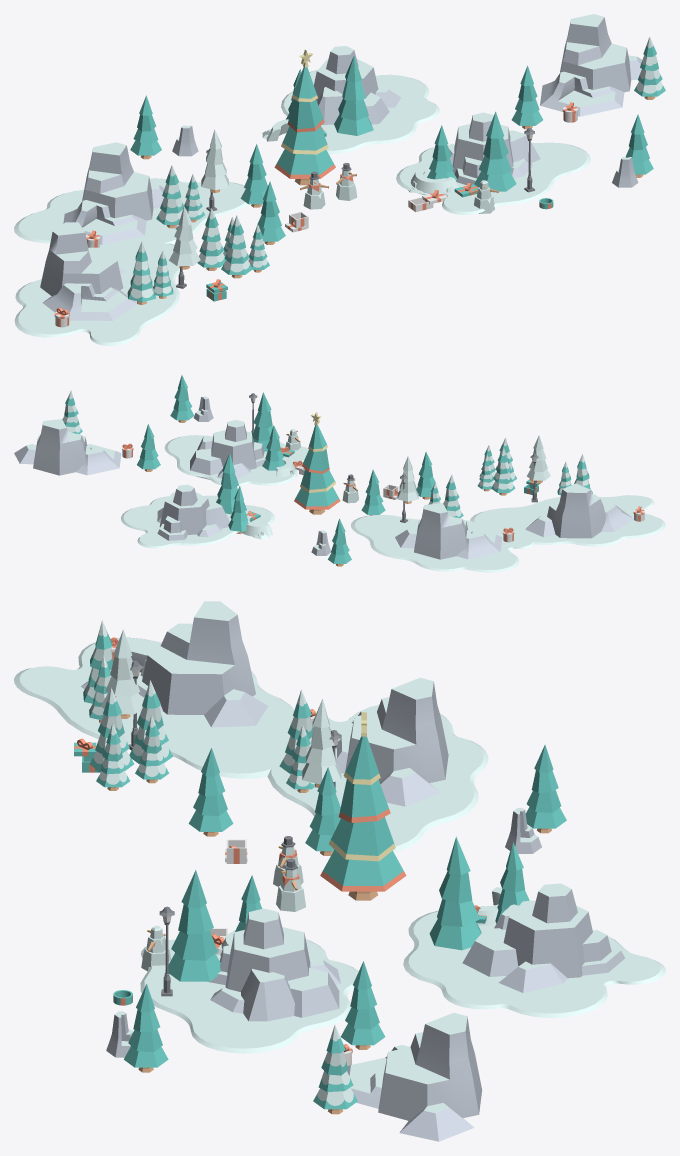
Rendered from xmas.glb.
The picture shows the model from 3 angles, top to bottom: view 1: azimuth 30°, elevation 25°; view 2: azimuth 150°, elevation 25°; view 3: azimuth 270°, elevation 25°; orthographic projection. The views are drawn at different scales.
Visible parts, largest first — view 1: rockFormationLarge.002, rockFormationLarge.001, rockFormationLarge, snowPatch.003, snowPatch.001, snowPatch, snowPatch.002, treeDecorated, rockFormationMedium.001, rockFormationMedium, treePine.003, treePine.001 (+22 smaller); view 2: snowPatch.001, snowPatch.003, rockFormationLarge, rockFormationLarge.002, rockFormationLarge.001, rockFormationMedium, rockFormationMedium.001, snowPatch.002, treeDecorated, snowPatch, treePine.003, treePine.001 (+18 smaller); view 3: rockFormationLarge.002, rockFormationLarge.001, snowPatch.003, rockFormationMedium.001, rockFormationMedium, snowPatch.002, rockFormationLarge, snowPatch, treeDecorated, snowPatch.001, treePine.001, treePine.003 (+20 smaller).
Boxes of the visible parts, <box> form: rockFormationLarge.002: <box>540,14,642,116</box>; rockFormationLarge.001: <box>40,222,136,320</box>; rockFormationLarge: <box>63,142,164,244</box>; snowPatch.003: <box>14,243,179,345</box>; snowPatch.001: <box>14,178,248,254</box>; snowPatch: <box>396,142,590,214</box>; snowPatch.002: <box>281,70,439,154</box>; treeDecorated: <box>274,67,335,185</box>; rockFormationMedium.001: <box>313,46,401,124</box>; rockFormationMedium: <box>447,112,540,187</box>; treePine.003: <box>334,55,373,135</box>; treePine.001: <box>474,111,516,191</box>; snowPatch.001: <box>351,515,534,572</box>; snowPatch.003: <box>470,495,665,546</box>; rockFormationLarge: <box>395,503,502,559</box>; rockFormationLarge.002: <box>14,419,121,475</box>; rockFormationLarge.001: <box>525,483,633,538</box>; rockFormationMedium: <box>190,420,267,479</box>; rockFormationMedium.001: <box>157,484,229,540</box>; snowPatch.002: <box>121,495,274,548</box>; treeDecorated: <box>294,425,340,514</box>; snowPatch: <box>164,435,308,485</box>; treePine.003: <box>216,453,238,514</box>; treePine.001: <box>252,392,272,451</box>; rockFormationLarge.002: <box>347,1012,482,1141</box>; rockFormationLarge.001: <box>81,601,268,727</box>; snowPatch.003: <box>14,637,294,778</box>; rockFormationMedium.001: <box>462,883,624,992</box>; rockFormationMedium: <box>207,908,340,1021</box>; snowPatch.002: <box>403,910,665,1017</box>; rockFormationLarge: <box>330,677,448,806</box>; snowPatch: <box>140,939,358,1053</box>; treeDecorated: <box>320,736,406,900</box>; snowPatch.001: <box>267,705,488,852</box>; treePine.001: <box>165,870,220,981</box>; treePine.003: <box>429,837,481,950</box>.
Size of the model in its own units: 20.1 by 3.56 by 10.9.
